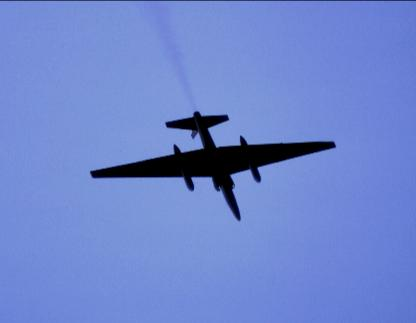Tu160: (90, 112, 338, 222)
